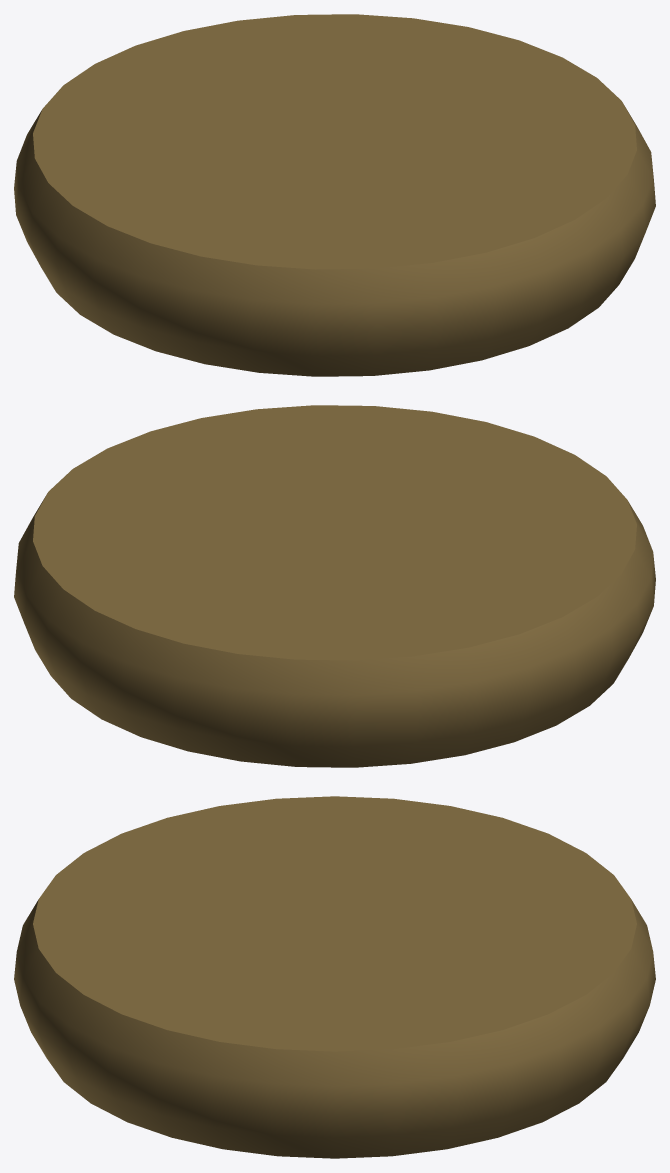
Rendered from shroom body slice.fbx.
The picture shows the model from 3 angles, top to bottom: view 1: azimuth 30°, elevation 25°; view 2: azimuth 150°, elevation 25°; view 3: azimuth 270°, elevation 25°; orthographic projection.
Visible parts, largest first — view 1: shroom body slice; view 2: shroom body slice; view 3: shroom body slice.
Part boxes in pixels (x1,y1,x2,y2): shroom body slice: [14, 14, 655, 376]; shroom body slice: [14, 405, 655, 767]; shroom body slice: [14, 796, 655, 1158].
Size of the model in its own units: 157 by 29.85 by 157.
